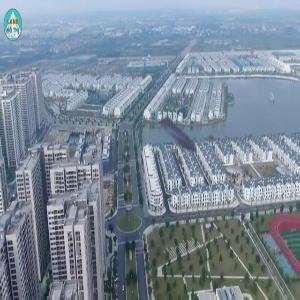drone: (122, 85, 227, 190)
